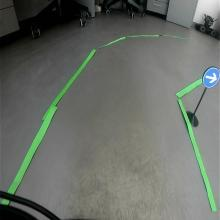right: (203, 67, 220, 88)
